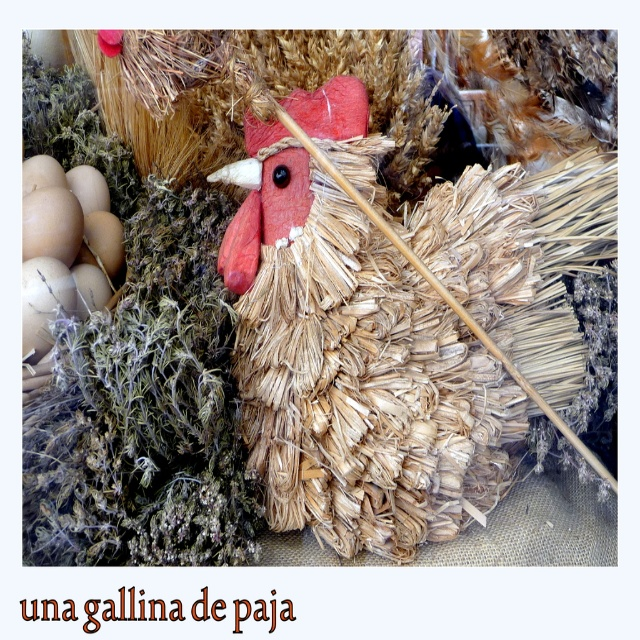Chicken: (198, 76, 610, 593)
